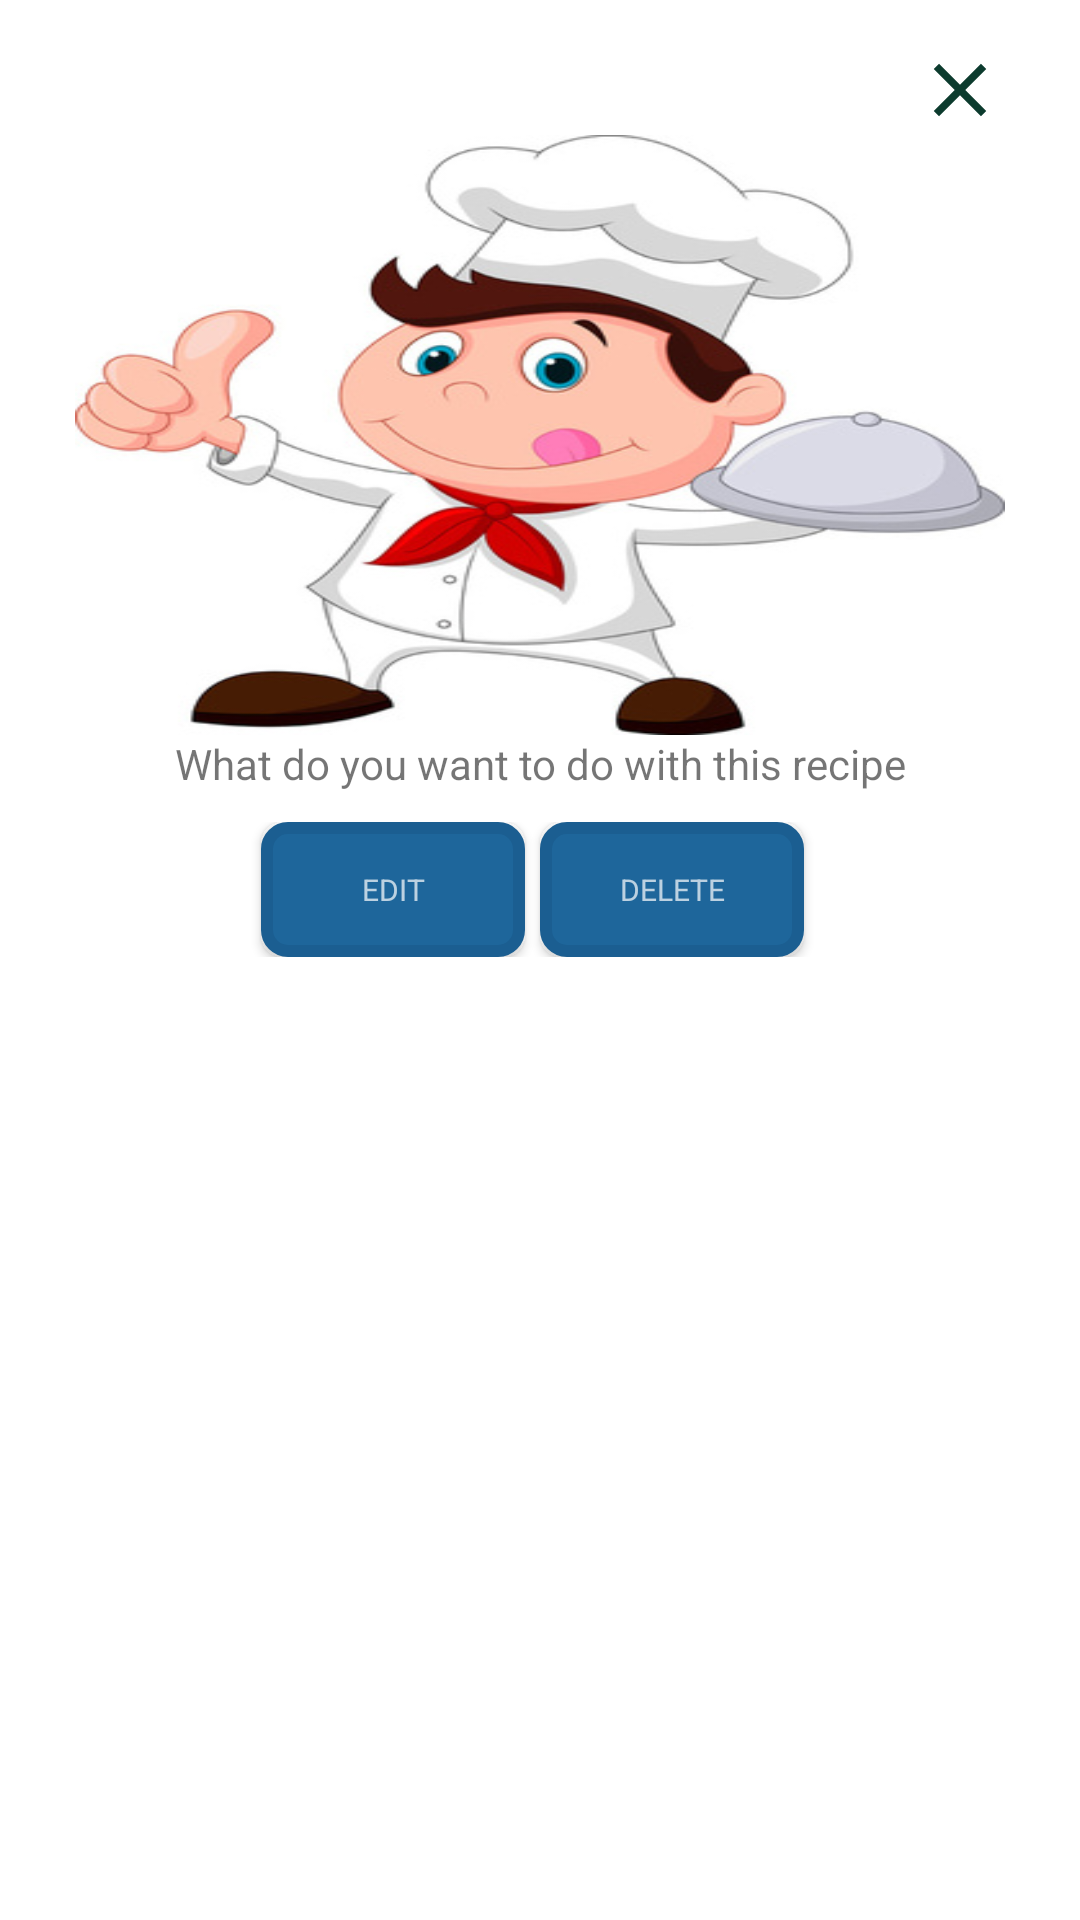

Point at icon controls on the screen. Image size 1080 x 1920, points as (x=x, y=y).
close: (x=960, y=90)
